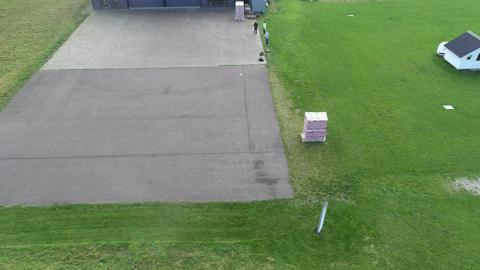RockwoolPallet: (234, 1, 245, 23)
